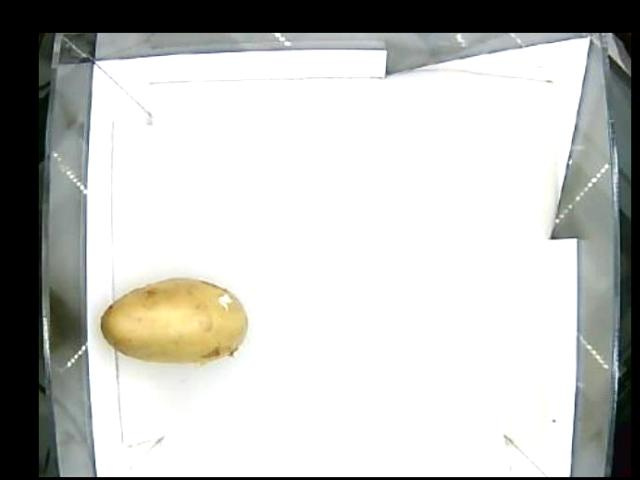Potato: (100, 279, 248, 360)
